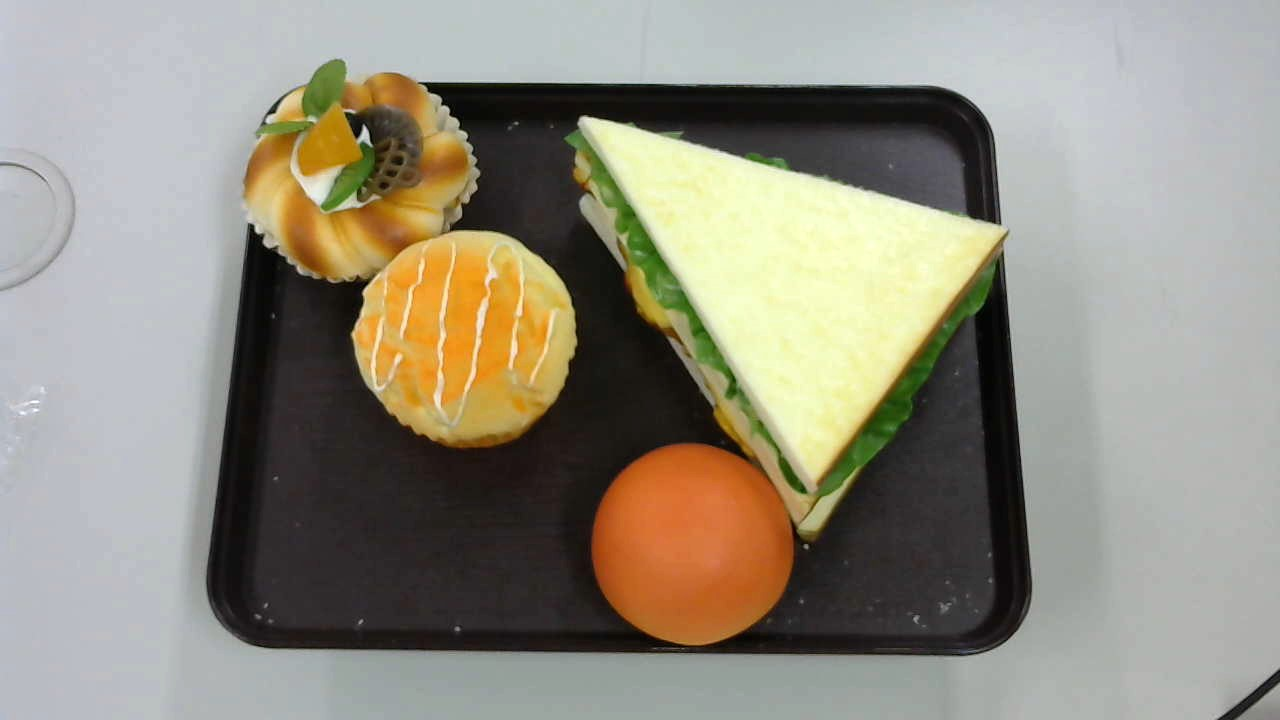bun: (592, 444, 793, 642)
cupcake: (351, 232, 579, 445)
fruit tart: (242, 60, 483, 280)
sandwich: (565, 112, 1009, 542)
